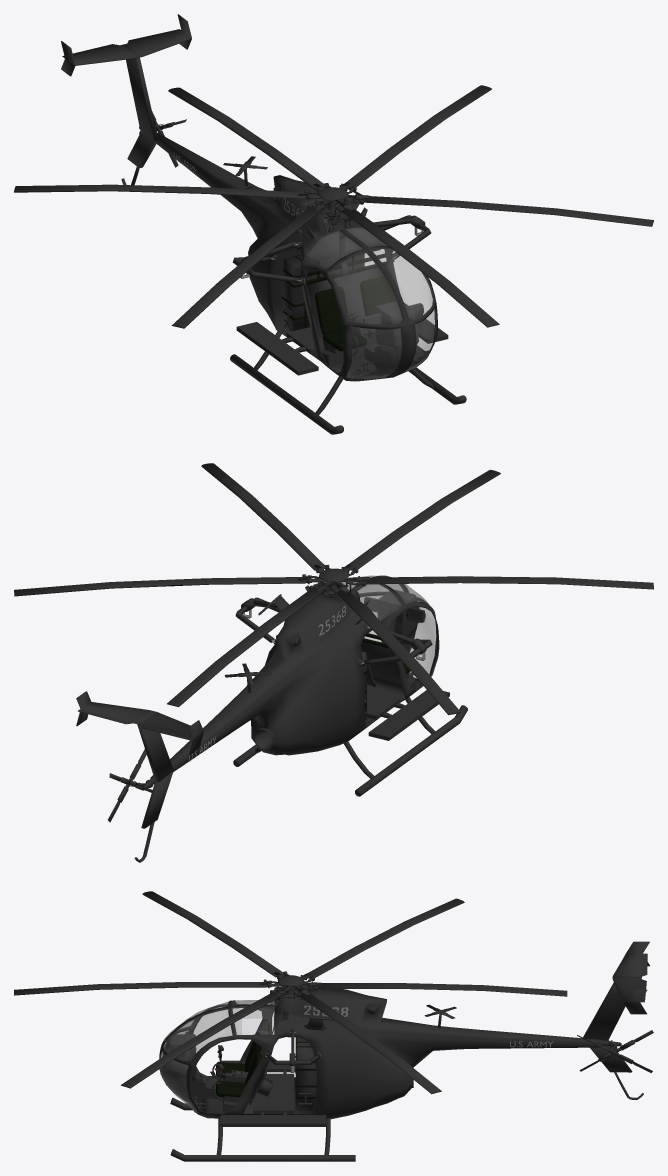
The picture shows the model from 3 angles, top to bottom: view 1: azimuth 30°, elevation 25°; view 2: azimuth 150°, elevation 25°; view 3: azimuth 270°, elevation 25°; orthographic projection. The views are drawn at different scales.
Parts seen in each view (by area): view 1: MH-6 Littel Bird Main; view 2: MH-6 Littel Bird Main; view 3: MH-6 Littel Bird Main.
Boxes of the visible parts, x1,y1,x2,y2 form: MH-6 Littel Bird Main: (14,14,653,434); MH-6 Littel Bird Main: (14,463,653,862); MH-6 Littel Bird Main: (14,891,653,1161).
Bounding box in the file's own units: 8.81 × 3.41 × 11.78.
2 materials, 1 textured.
